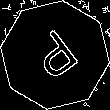P_SE: (25, 24, 85, 86)
